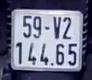1: (15, 40, 25, 65)
2: (64, 16, 73, 41)
4: (27, 42, 37, 66), (40, 41, 49, 67)
5: (67, 42, 79, 69), (21, 15, 33, 39)
6: (55, 42, 66, 66)
9: (33, 15, 43, 39)
V: (51, 15, 62, 41)
